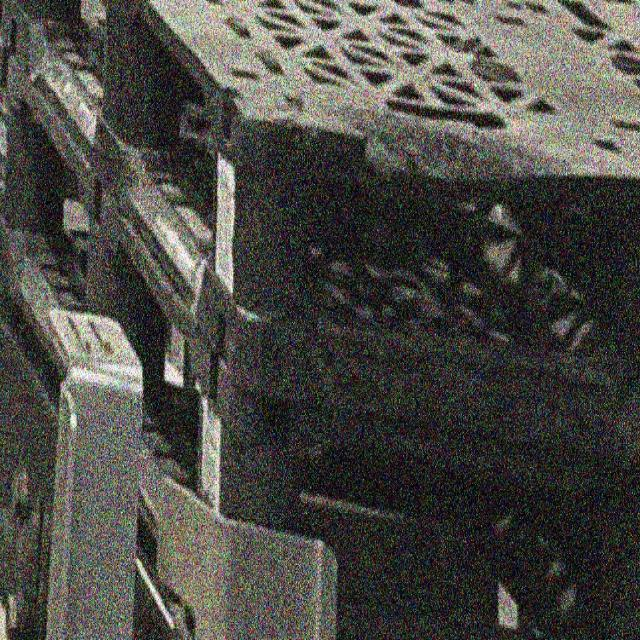igps: (0, 47, 640, 640), (0, 0, 640, 485)
